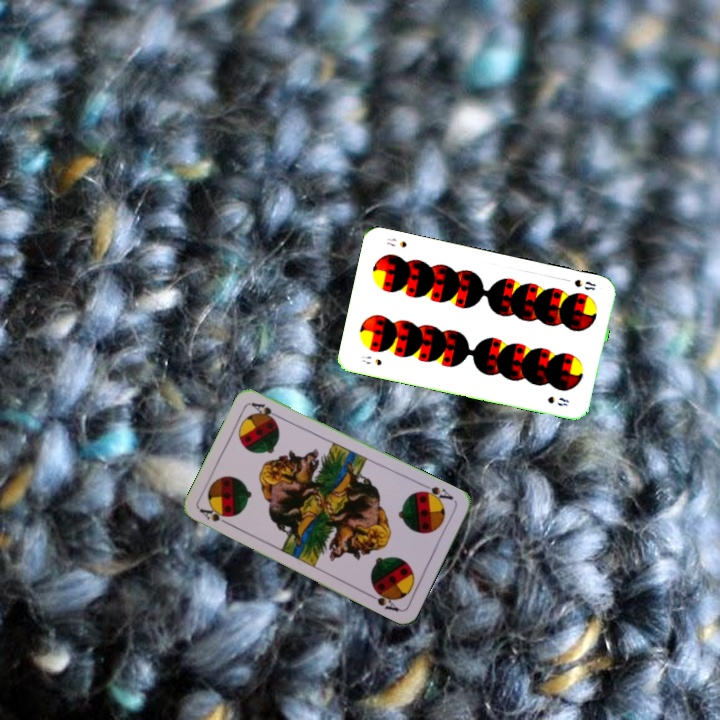S8: (570, 275, 598, 293), (357, 351, 384, 368)
SA: (416, 480, 456, 505), (196, 504, 234, 529)
